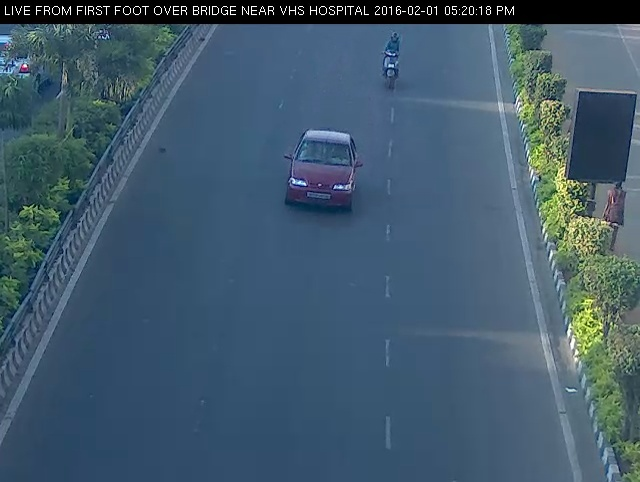Car: (277, 117, 366, 227)
Person: (372, 22, 417, 97)
